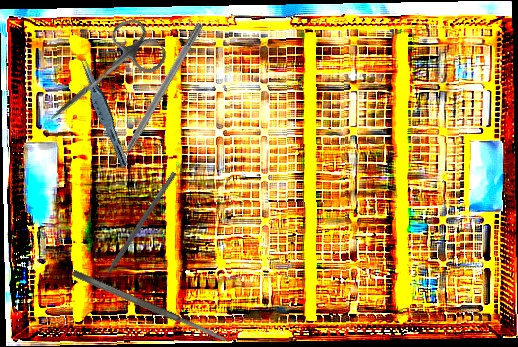Hook Surgical: (110, 21, 205, 173)
Iris Scissors: (33, 12, 172, 144)
Spatula Surgical: (71, 268, 228, 345), (92, 168, 177, 291)
Tissue Forceps: (73, 55, 135, 168)
